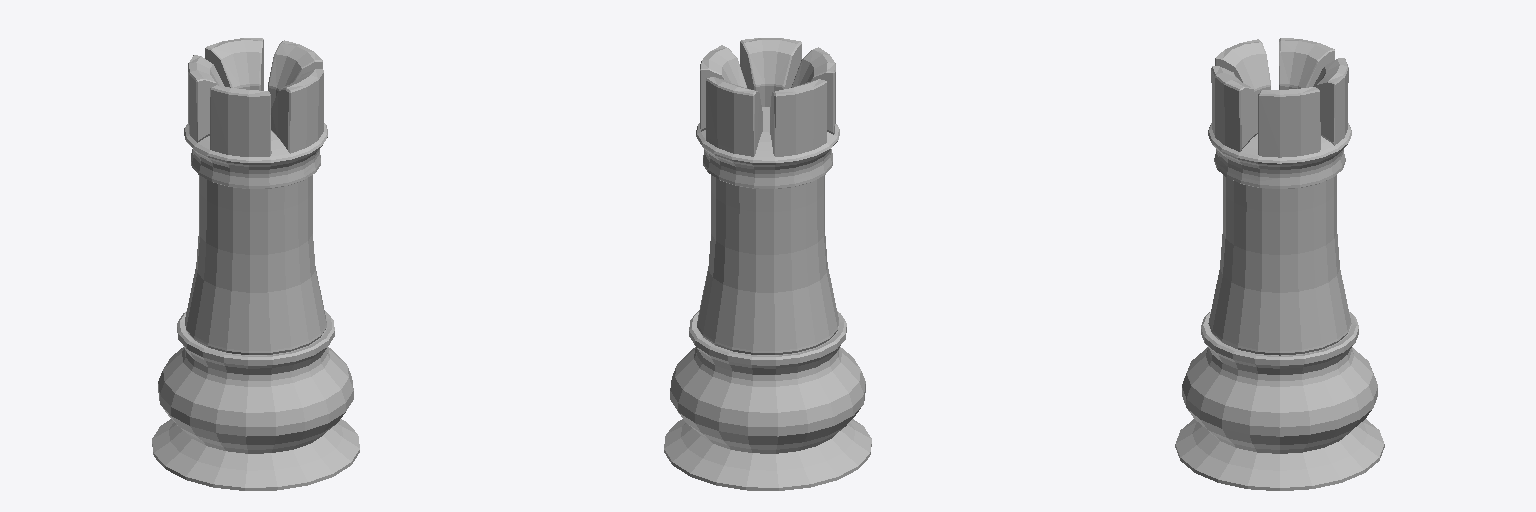
3 views of the same model, side by side, from view 1: azimuth 30°, elevation 25°; view 2: azimuth 150°, elevation 25°; view 3: azimuth 270°, elevation 25° (orthographic).
Visible parts, largest first — view 1: Rook2_Rook2Shape; view 2: Rook2_Rook2Shape; view 3: Rook2_Rook2Shape.
Part boxes in pixels (bbox=[...]): Rook2_Rook2Shape: bbox=[152, 38, 359, 490]; Rook2_Rook2Shape: bbox=[664, 38, 871, 490]; Rook2_Rook2Shape: bbox=[1175, 38, 1384, 490].
Size of the model in its own units: 0.9955 by 2.01 by 0.9955.
1 materials, 1 textured.